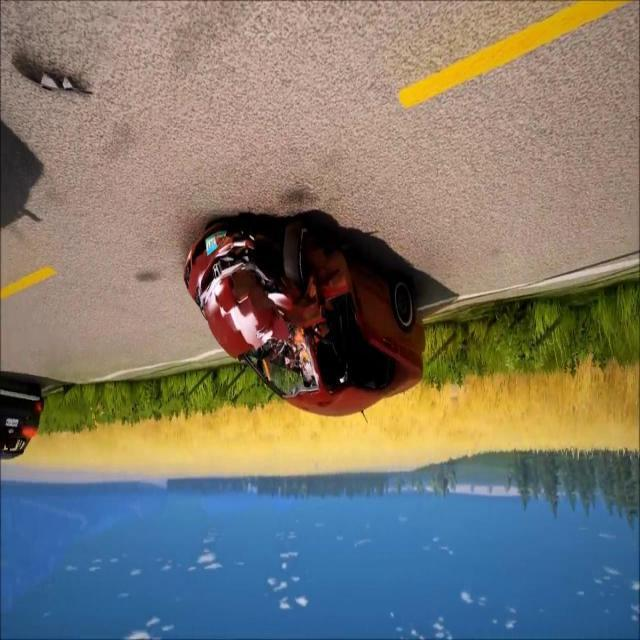severe: (178, 209, 430, 434)
